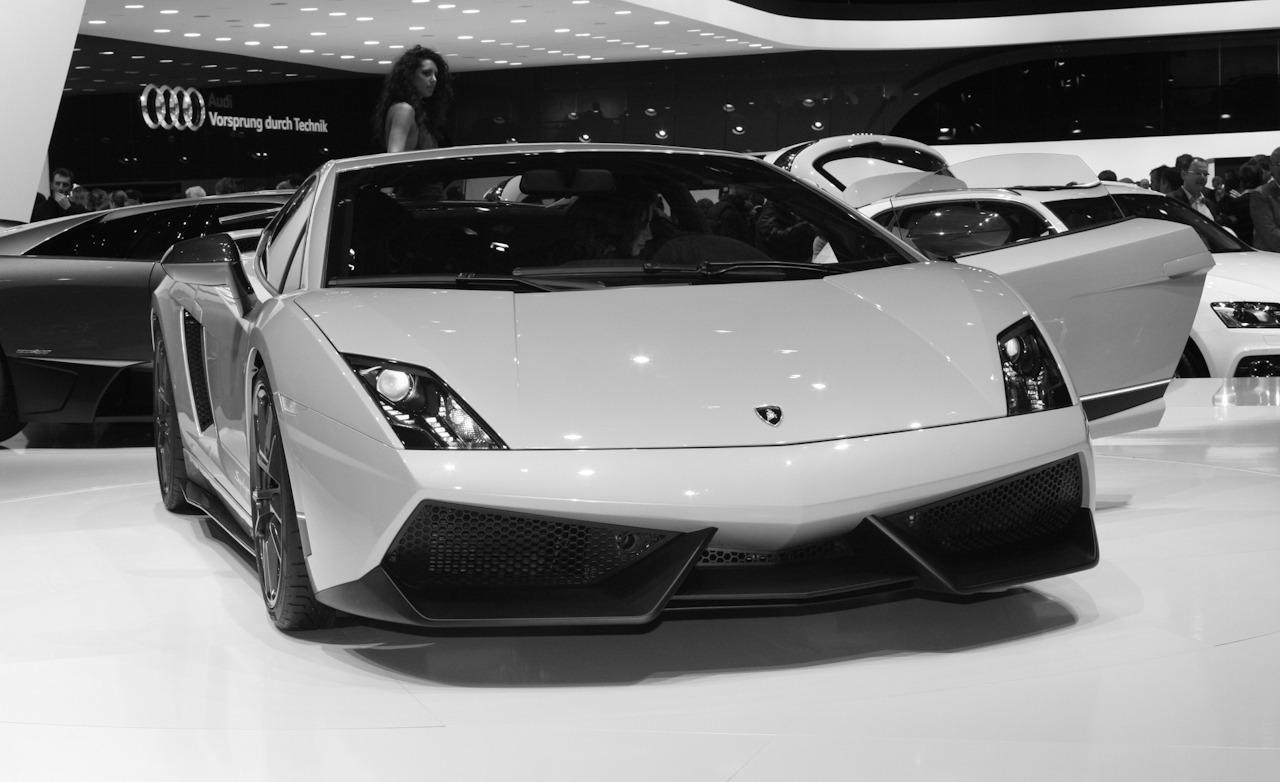car: (152, 144, 1213, 634)
